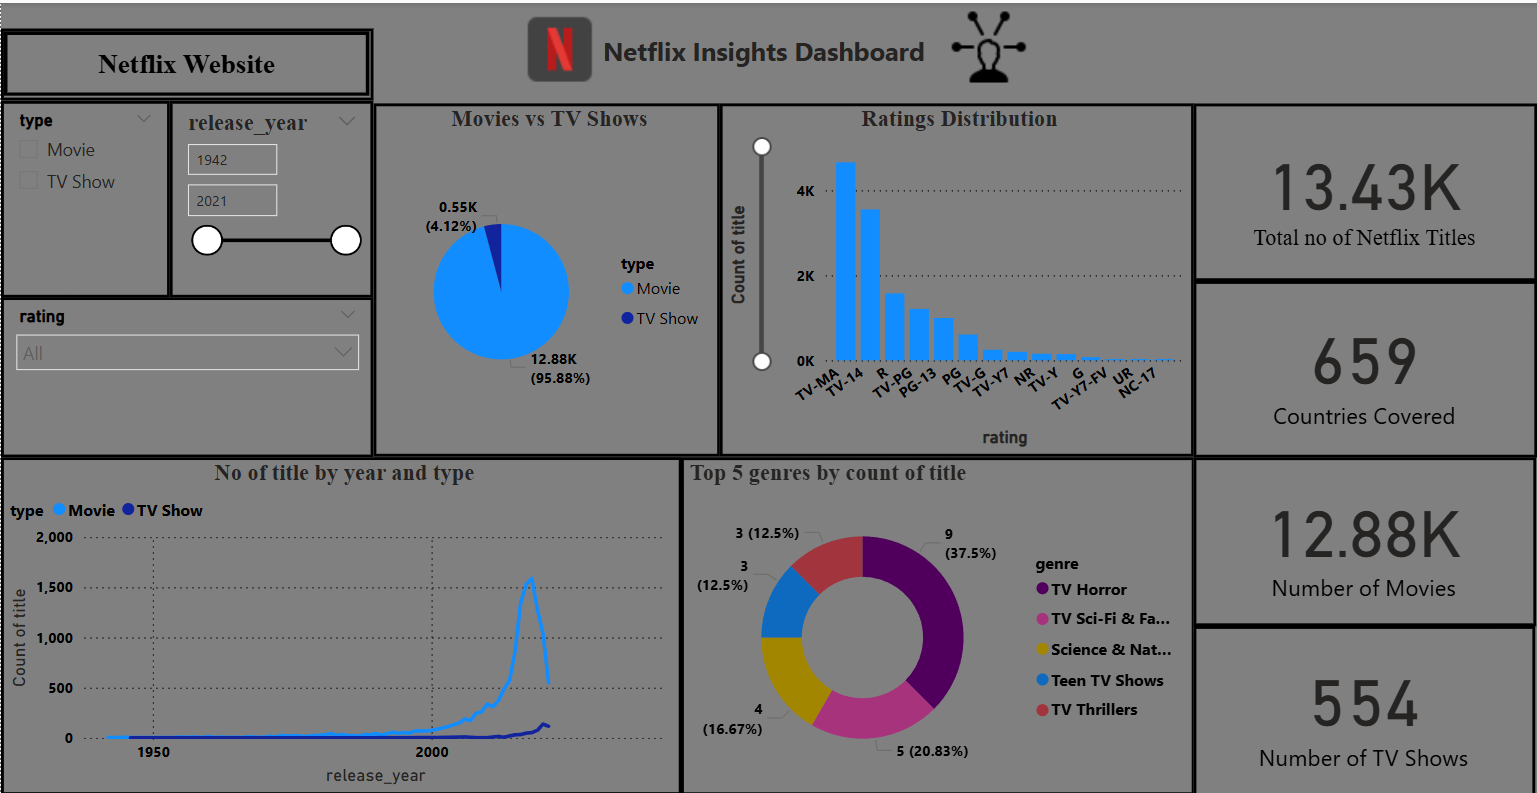

The dashboard page shown, as its layout file describes it:
{"tool":"powerbi","page":{"name":"Page 2","canvas":[1280,720],"ordinal":1},"visuals":[{"type":"textbox","box":[0,0,1280.3,662.8],"z":0},{"type":"textbox","box":[465.9,22,339.9,58.7],"z":1000},{"type":"pieChart","title":"Movies vs TV Shows","fields":{"Category":["netflix_titles.type"],"Y":["CountNonNull(netflix_titles.title)"]},"box":[310.6,85.6,288.6,294.7],"z":2000},{"type":"lineChart","title":"No of title by year and type","fields":{"Y":["CountNonNull(netflix_titles.title)"],"Category":["netflix_titles.release_year"],"Series":["netflix_titles.type"]},"box":[0,380.3,567.4,281.3],"z":3000},{"type":"slicer","fields":{"Values":["netflix_titles.type"]},"box":[0,83.2,140.6,163.9],"z":4000},{"type":"slicer","fields":{"Values":["netflix_titles.rating"]},"box":[0,247,310.6,133.3],"z":5000},{"type":"clusteredColumnChart","title":"Ratings Distribution","fields":{"Category":["netflix_titles.rating"],"Y":["CountNonNull(netflix_titles.title)"]},"box":[599.2,85.6,395,294.7],"z":6000},{"type":"slicer","fields":{"Values":["netflix_titles.release_year"]},"box":[140.6,83.2,170,163.9],"z":7000},{"type":"donutChart","title":"Top 5 genres by count of title ","fields":{"Category":["netflix_titles.genre"],"Y":["CountNonNull(netflix_titles.title)"]},"box":[566.2,380.3,428,281.3],"z":8000},{"type":"image","box":[778.9,0,88,77],"z":9000},{"type":"image","box":[423.1,0,85.6,80.7],"z":10000},{"type":"card","fields":{"Values":["CountNonNull(netflix_titles.title)"]},"box":[995.4,83.2,284.9,152.9],"z":10001},{"type":"card","fields":{"Values":["Count(netflix_titles.country)"]},"box":[995.4,233.6,284.9,133.3],"z":10002},{"type":"card","fields":{"Values":["CountNonNull(netflix_titles.type)"]},"box":[994.2,366.8,284.9,154.1],"z":10003},{"type":"card","fields":{"Values":["CountNonNull(netflix_titles.type)"]},"box":[994.2,520.9,284.9,141.8],"z":10004},{"type":"actionButton","box":[0,23.2,310.6,59.9],"z":10005}]}

Visuals, with their boxes on the page's 1280x720 design canvas (x1, y1, x2, y2). These are canvas units, not pixel positions in the 1537x793 screenshot, which may show the page scaled, cropped or inside an application window:
textbox: bbox=(0, 0, 1280, 663)
textbox: bbox=(466, 22, 806, 81)
"Movies vs TV Shows" pieChart: bbox=(311, 86, 599, 380)
"No of title by year and type" lineChart: bbox=(0, 380, 567, 662)
slicer - netflix_titles.type: bbox=(0, 83, 141, 247)
slicer - netflix_titles.rating: bbox=(0, 247, 311, 380)
"Ratings Distribution" clusteredColumnChart: bbox=(599, 86, 994, 380)
slicer - netflix_titles.release_year: bbox=(141, 83, 311, 247)
"Top 5 genres by count of title " donutChart: bbox=(566, 380, 994, 662)
image: bbox=(779, 0, 867, 77)
image: bbox=(423, 0, 509, 81)
card - CountNonNull(netflix_titles.title): bbox=(995, 83, 1280, 236)
card - Count(netflix_titles.country): bbox=(995, 234, 1280, 367)
card - CountNonNull(netflix_titles.type): bbox=(994, 367, 1279, 521)
card - CountNonNull(netflix_titles.type): bbox=(994, 521, 1279, 663)
actionButton: bbox=(0, 23, 311, 83)
